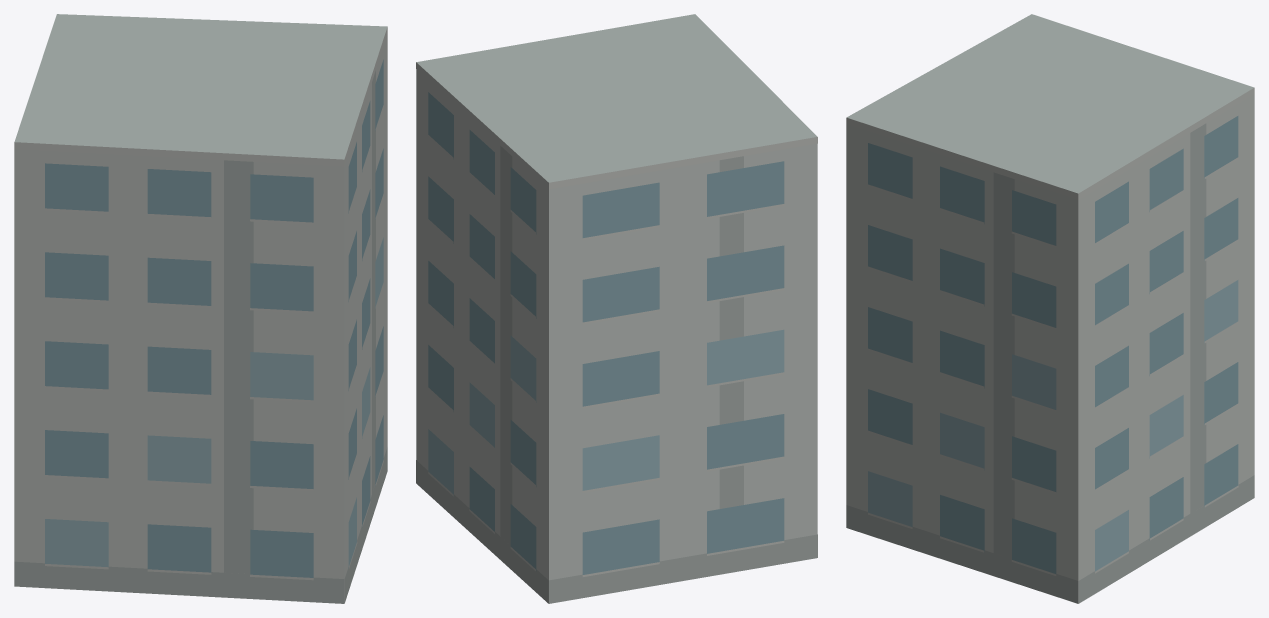
The model's file is residential-d08a2d93-01c7-45c3-b372-252b69441abf.glb.
3 views of the same model, side by side, from view 1: azimuth 30°, elevation 25°; view 2: azimuth 150°, elevation 25°; view 3: azimuth 270°, elevation 25° (orthographic). The views are drawn at different scales.
Visible parts, largest first — view 1: residential-d08a2d93-01c7-45c3-b372-252b69441abf.tmp; view 2: residential-d08a2d93-01c7-45c3-b372-252b69441abf.tmp; view 3: residential-d08a2d93-01c7-45c3-b372-252b69441abf.tmp.
Part boxes in pixels (box(x1,y1,x2,y2)): residential-d08a2d93-01c7-45c3-b372-252b69441abf.tmp: box(14, 14, 387, 603); residential-d08a2d93-01c7-45c3-b372-252b69441abf.tmp: box(416, 14, 817, 603); residential-d08a2d93-01c7-45c3-b372-252b69441abf.tmp: box(846, 14, 1254, 603).
Size of the model in its own units: 14.32 by 15.25 by 13.76.
